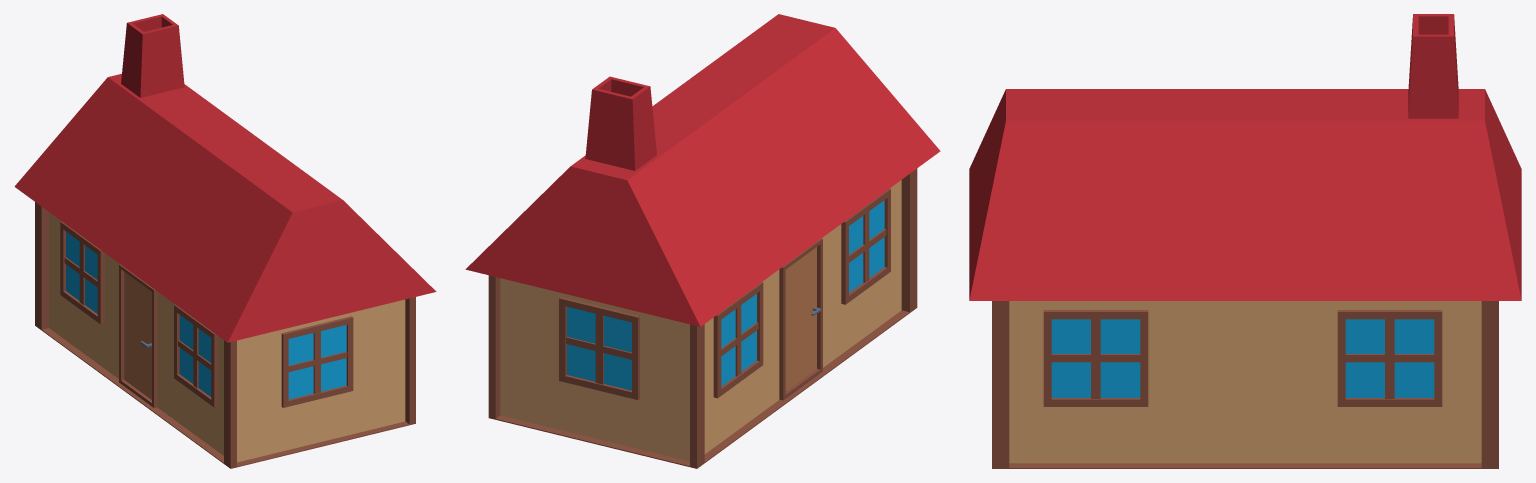
File: F_House_001.fbx
3 renders of one model, left to right at view 1: azimuth 30°, elevation 25°; view 2: azimuth 150°, elevation 25°; view 3: azimuth 270°, elevation 25°, orthographic. The views are drawn at different scales.
Parts seen in each view (by area): view 1: F_House_001; view 2: F_House_001; view 3: F_House_001.
Boxes of the visible parts, bbox=[...] form: F_House_001: bbox=[14, 14, 436, 468]; F_House_001: bbox=[465, 14, 940, 468]; F_House_001: bbox=[969, 14, 1521, 468].
Size of the model in its own units: 506 by 688 by 894.
